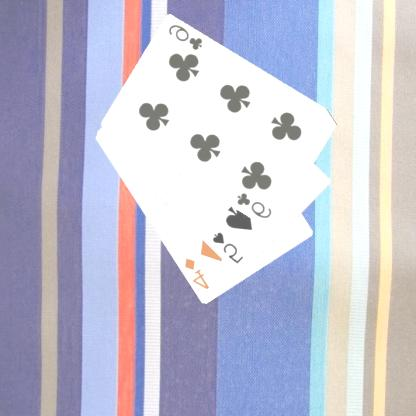4D: (183, 256, 213, 292)
5S: (211, 230, 246, 265)
6C: (236, 190, 275, 220), (167, 22, 206, 52)
